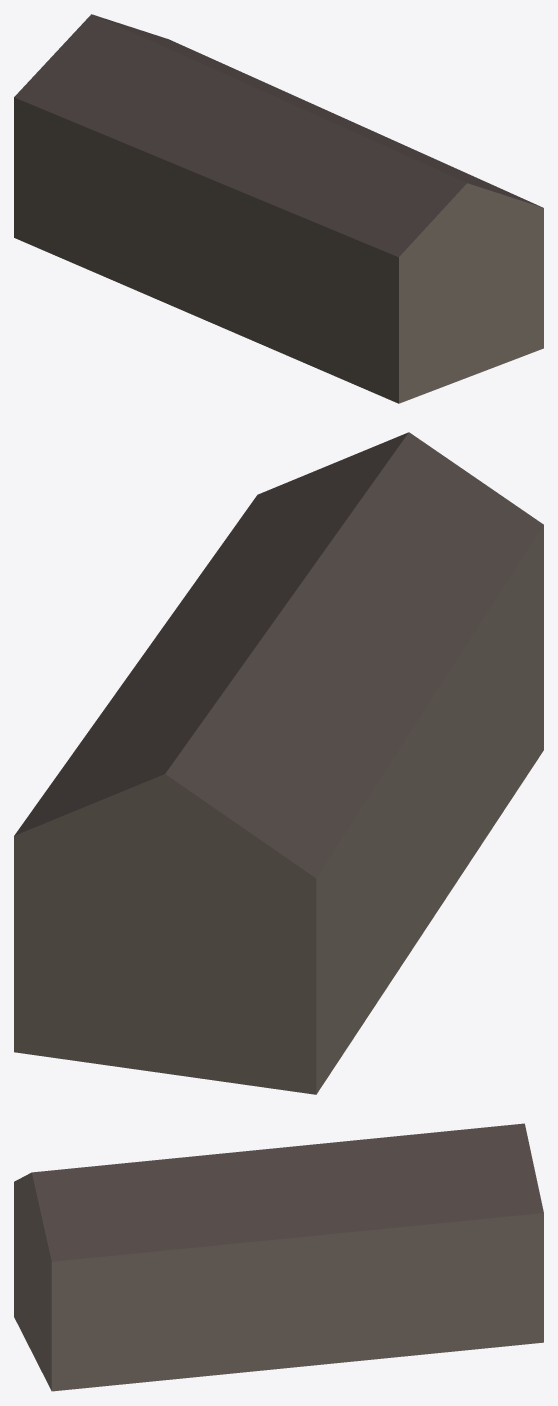
3 views of the same model, one above another, from view 1: azimuth 30°, elevation 25°; view 2: azimuth 150°, elevation 25°; view 3: azimuth 270°, elevation 25° (orthographic). The views are drawn at different scales.
Visible parts, largest first — view 1: HP-w1516161904; view 2: HP-w1516161904; view 3: HP-w1516161904.
Boxes of the visible parts, box(x1,y1,x2,y2) form: HP-w1516161904: box(14, 14, 543, 403); HP-w1516161904: box(14, 432, 543, 1094); HP-w1516161904: box(14, 1123, 543, 1391).
Size of the model in its own units: 12.7 by 8.31 by 22.23.
